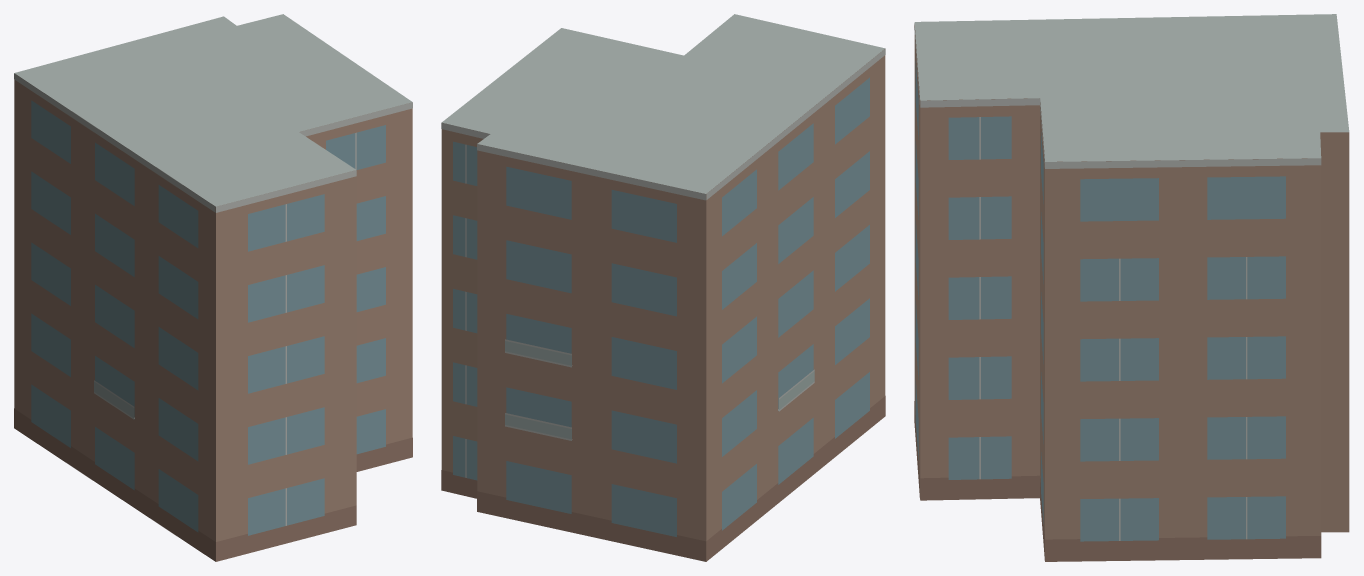
File: survey-upis-32796295.glb
3 views of the same model, side by side, from view 1: azimuth 30°, elevation 25°; view 2: azimuth 150°, elevation 25°; view 3: azimuth 270°, elevation 25° (orthographic). The views are drawn at different scales.
Parts seen in each view (by area): view 1: survey-upis-32796295.tmp; view 2: survey-upis-32796295.tmp; view 3: survey-upis-32796295.tmp.
Boxes of the visible parts, box(x1,y1,x2,y2) form: survey-upis-32796295.tmp: box(14, 14, 412, 561); survey-upis-32796295.tmp: box(441, 14, 885, 561); survey-upis-32796295.tmp: box(914, 14, 1349, 561).
Size of the model in its own units: 10.96 by 13.8 by 13.61.
